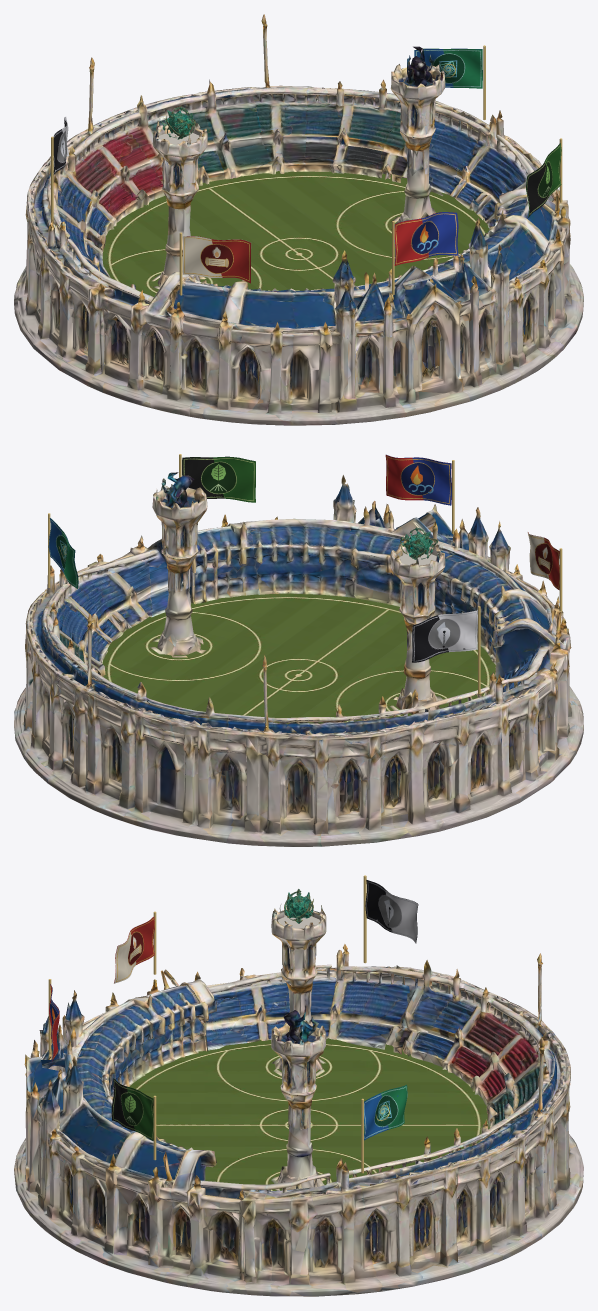
File: arena-lo.glb
3 renders of one model, top to bottom at view 1: azimuth 30°, elevation 25°; view 2: azimuth 150°, elevation 25°; view 3: azimuth 270°, elevation 25°, orthographic.
Parts seen in each view (by area): view 1: object 8, field, towerR, towerL, flag_prismari, flag_lorehold, flag_quandrix, flag_witherbloom, qcore, flag_silverquill; view 2: object 8, field, towerR, towerL, flag_prismari, flag_witherbloom, flag_silverquill, flag_lorehold, flag_quandrix, qcore; view 3: object 8, field, towerR, towerL, flag_silverquill, flag_witherbloom, flag_quandrix, flag_lorehold, qcore.
Boxes of the visible parts, x1,y1,x2,y2 form: object 8: (14,14,583,425); field: (102,171,488,296); towerR: (390,46,445,229); towerL: (151,120,207,288); flag_prismari: (394,212,458,265); flag_lorehold: (183,236,251,283); flag_quandrix: (414,48,482,88); flag_witherbloom: (526,143,561,217); qcore: (164,106,195,139); flag_silverquill: (53,117,69,174); object 8: (14,475,583,846); field: (102,592,496,723); towerR: (150,472,207,657); towerL: (389,539,445,713); flag_prismari: (385,454,451,505); flag_witherbloom: (182,456,255,502); flag_silverquill: (411,610,477,662); flag_lorehold: (527,532,559,590); flag_quandrix: (48,518,78,588); qcore: (400,527,433,558); object 8: (14,944,583,1296); field: (129,1038,489,1190); towerR: (271,1005,326,1190); towerL: (271,904,326,1076); flag_silverquill: (365,880,418,943); flag_witherbloom: (111,1078,153,1140); flag_quandrix: (364,1084,407,1140); flag_lorehold: (114,916,154,983); qcore: (284,889,313,923).
Size of the model in its own units: 1.9 by 0.8458 by 1.9.
Materials: 10 (8 with a texture image).
